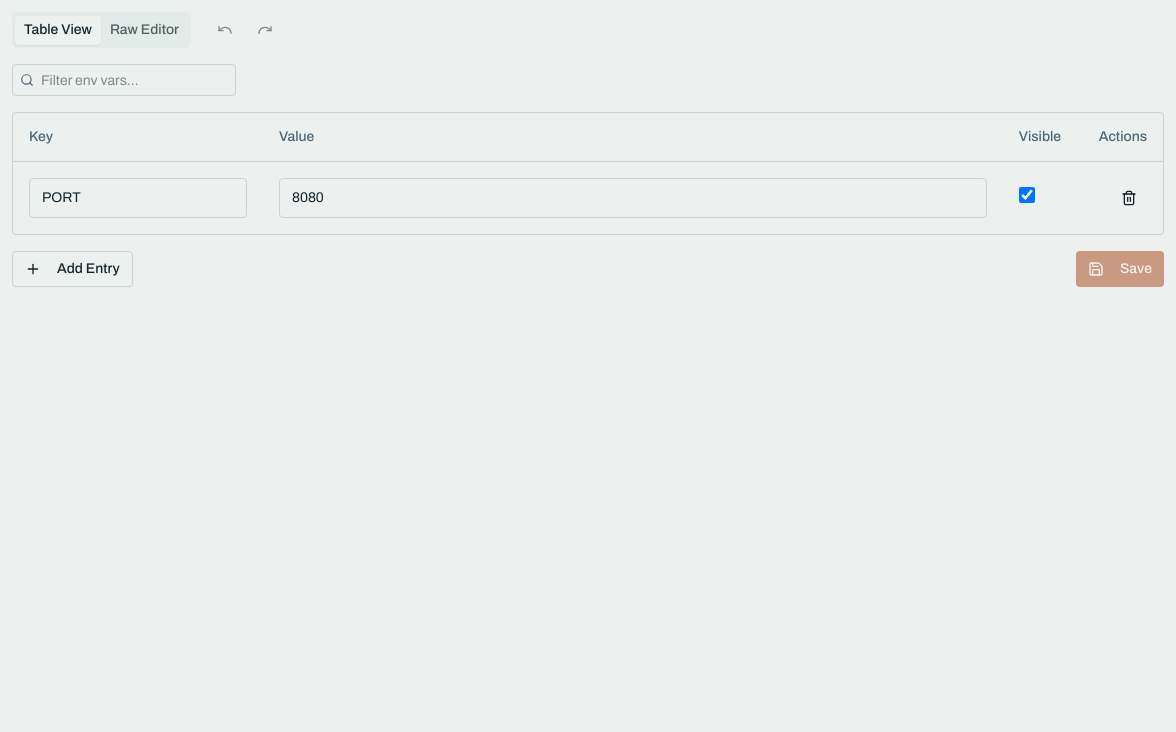
Scenario: EnvEditor › toggles to raw view
Expected: the tab "Table View" is shown, [15, 16, 101, 44]
Click the tab "Raw Editor". click: {"x": 144, "y": 30}
box: [101, 16, 188, 44]
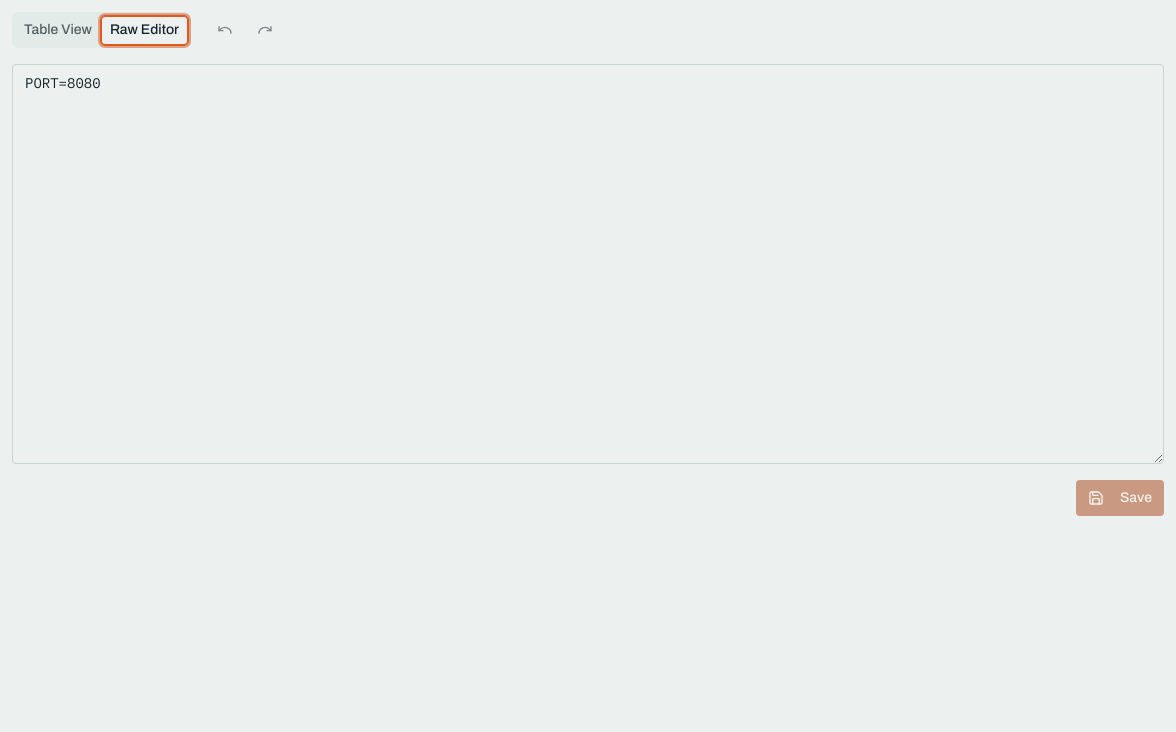
Expected: the text box with placeholder "KEY=value" is shown, [12, 64, 1164, 464]
